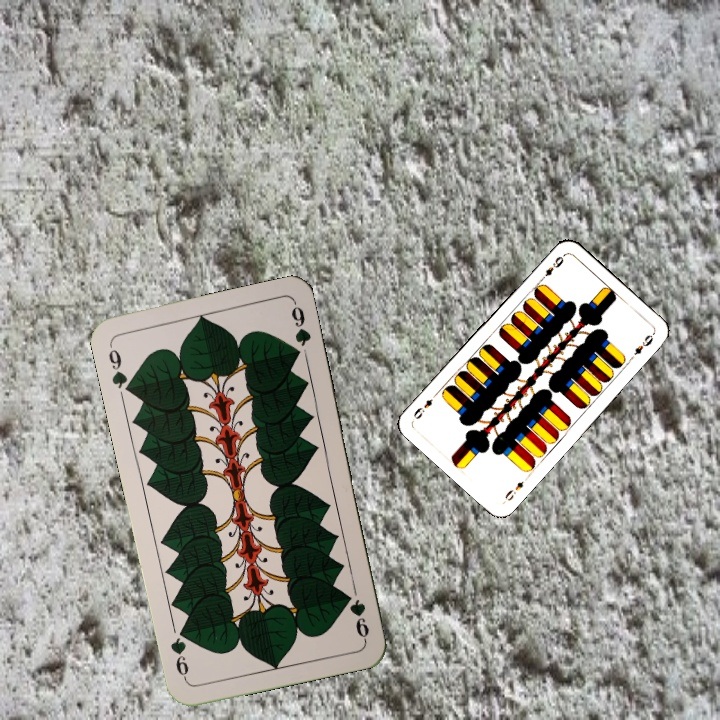E9: (536, 251, 567, 284), (501, 472, 531, 504)
G9: (104, 340, 136, 397), (345, 595, 372, 643)
